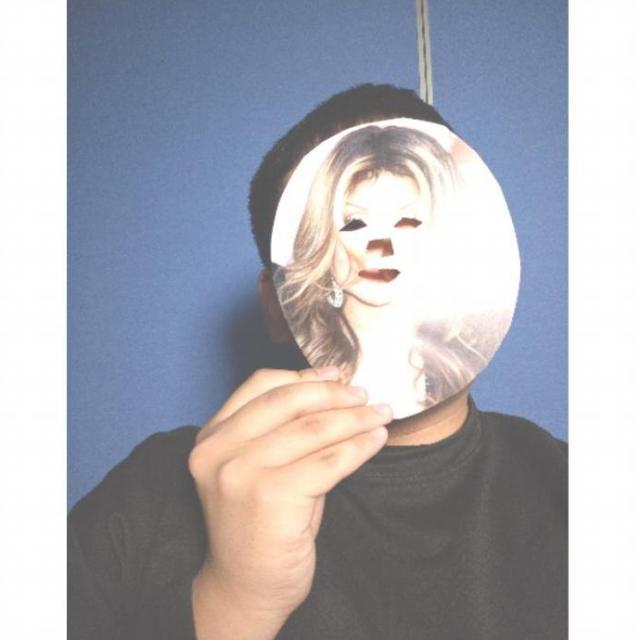mask: (268, 120, 520, 425)
